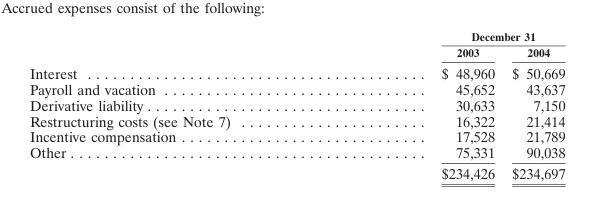table: (28, 29, 564, 182)
table column: (28, 29, 335, 182), (335, 29, 502, 182), (502, 29, 564, 182)
table column header: (28, 29, 564, 61)
table row: (28, 61, 564, 81), (28, 162, 564, 182), (28, 43, 564, 61), (28, 144, 564, 162), (28, 96, 564, 112), (28, 112, 564, 128), (28, 128, 564, 144), (28, 81, 564, 96), (28, 29, 564, 43)
table spanning cell: (335, 29, 564, 43)
